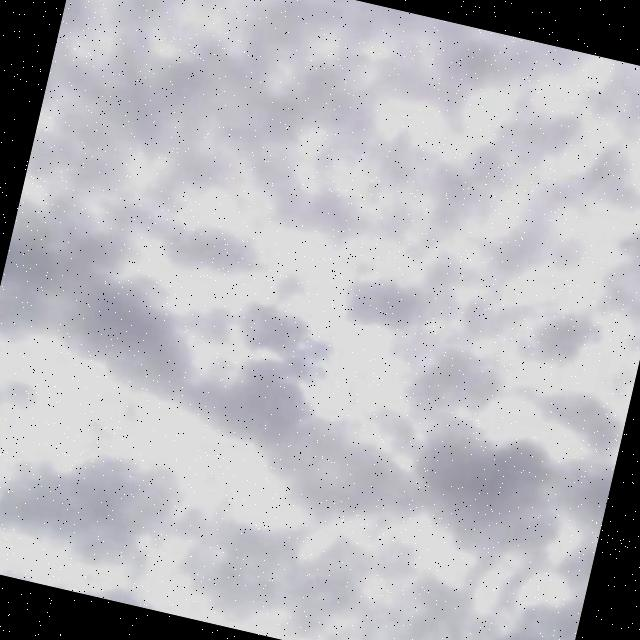Ac: (1, 13, 640, 640)
